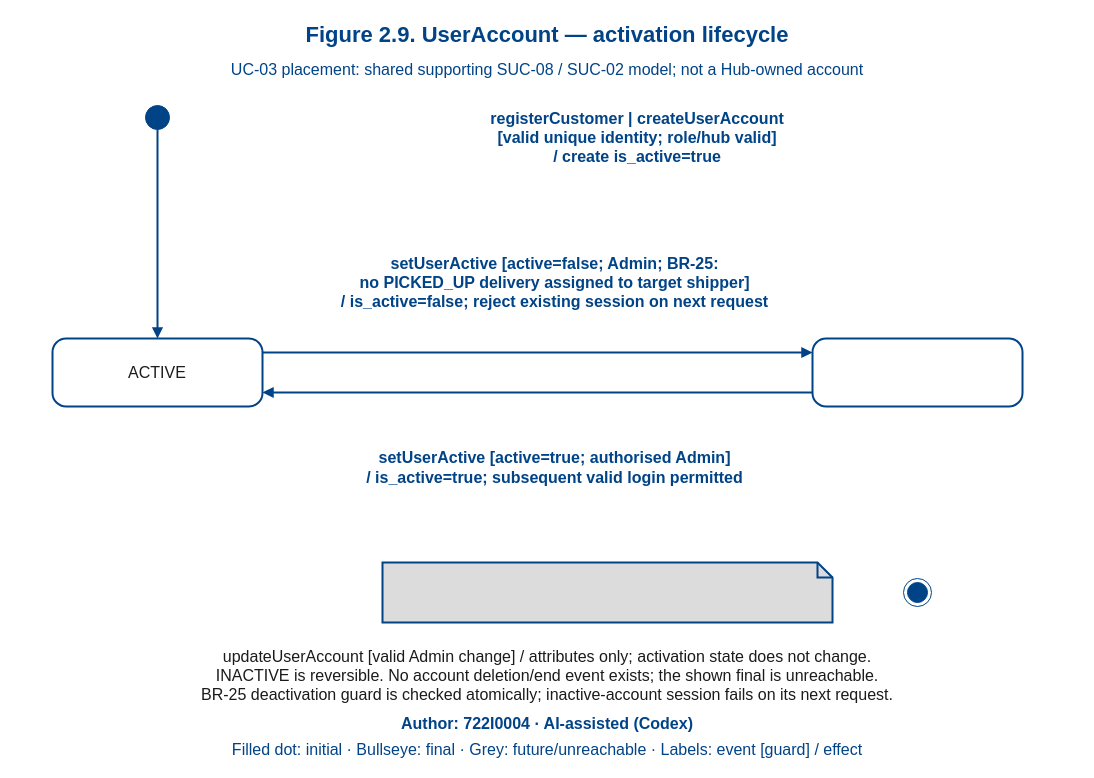
Some shapes in this 1094 by 778 pixel diagram are drawn without their labels. The shapes that lost their labels are listed below. From the top down, each one's centre as x and y in pixels, then its label:
the point at 917,372: INACTIVE
the point at 607,592: Unreachable in Part 2 (no account-end operation)
